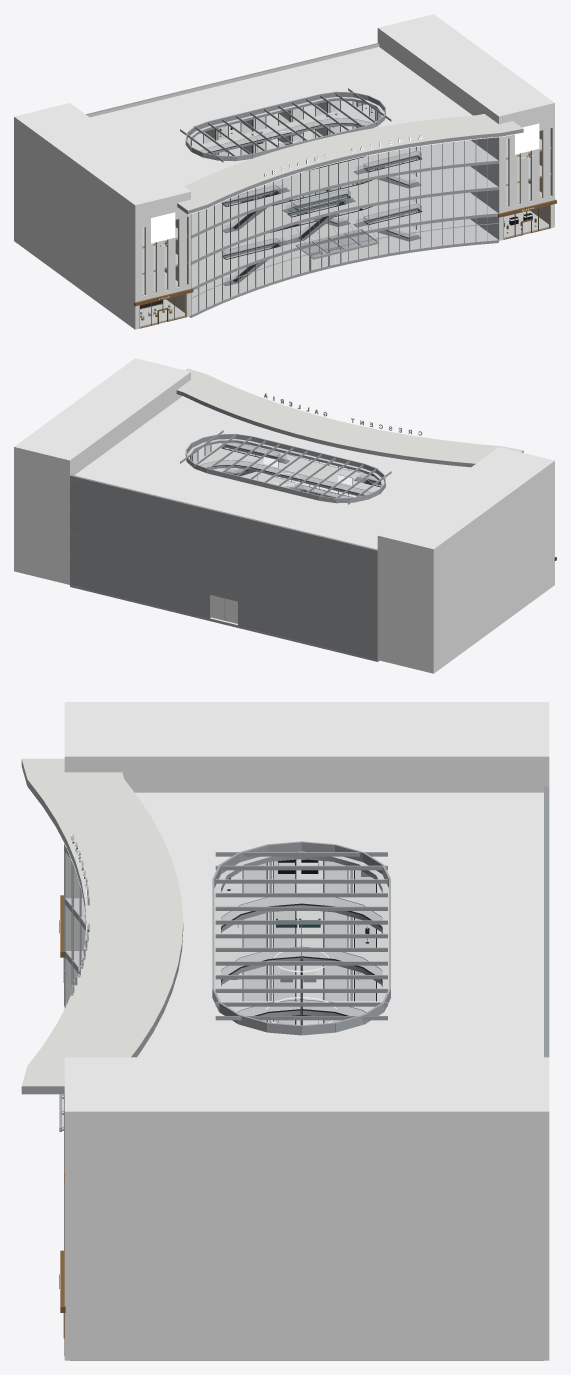
Rendered from crescent_galleria_lod1.glb.
The picture shows the model from 3 angles, top to bottom: view 1: azimuth 30°, elevation 25°; view 2: azimuth 150°, elevation 25°; view 3: azimuth 270°, elevation 25°; orthographic projection. The views are drawn at different scales.
Visible parts, largest first — view 1: P15_LOD1_BUILDING_EXTERIOR_Bookends, P15_LOD1_BUILDING_INTERIOR_Slabs, P15_LOD1_GLASS_SYSTEM_CrescentGlass, P15_LOD1_BUILDING_EXTERIOR_Roof, P15_LOD1_FACADE_DETAILS_Crescent, P15_LOD1_GLASS_SYSTEM_CrescentFrame, P15_LOD1_GLASS_SYSTEM_SkylightFrame, P15_LOD1_BUILDING_INTERIOR_BookendFloors, P15_LOD1_SIGNAGE_Brand, P15_LOD1_GLASS_SYSTEM_BookShop1Glass, P15_LOD1_GLASS_SYSTEM_BookShop-1Glass, P15_LOD1_BUILDING_INTERIOR_ShopShells (+5 smaller); view 2: P15_LOD1_BUILDING_EXTERIOR_Bookends, P15_LOD1_BUILDING_EXTERIOR_Roof, P15_LOD1_FACADE_DETAILS_Crescent, P15_LOD1_BUILDING_INTERIOR_Slabs, P15_LOD1_GLASS_SYSTEM_SkylightFrame, P15_LOD1_BUILDING_INTERIOR_ShopShells; view 3: P15_LOD1_BUILDING_EXTERIOR_Bookends, P15_LOD1_BUILDING_EXTERIOR_Roof, P15_LOD1_FACADE_DETAILS_Crescent, P15_LOD1_BUILDING_INTERIOR_Slabs, P15_LOD1_GLASS_SYSTEM_SkylightFrame, P15_LOD1_GLASS_SYSTEM_CrescentGlass, P15_LOD1_GLASS_SYSTEM_CrescentFrame, P15_LOD1_DISPLAY_OBJECTS_ShopDisplays, P15_LOD1_GLASS_SYSTEM_Shopfronts.
Boxes of the visible parts, x1=… form: P15_LOD1_BUILDING_EXTERIOR_Bookends: x1=14, y1=14, x2=556, y2=329; P15_LOD1_BUILDING_INTERIOR_Slabs: x1=189, y1=100, x2=498, y2=317; P15_LOD1_GLASS_SYSTEM_CrescentGlass: x1=192, y1=138, x2=498, y2=313; P15_LOD1_BUILDING_EXTERIOR_Roof: x1=90, y1=47, x2=472, y2=186; P15_LOD1_FACADE_DETAILS_Crescent: x1=177, y1=114, x2=523, y2=259; P15_LOD1_GLASS_SYSTEM_CrescentFrame: x1=191, y1=137, x2=499, y2=315; P15_LOD1_GLASS_SYSTEM_SkylightFrame: x1=180, y1=88, x2=391, y2=162; P15_LOD1_BUILDING_INTERIOR_BookendFloors: x1=140, y1=139, x2=551, y2=327; P15_LOD1_SIGNAGE_Brand: x1=151, y1=123, x2=539, y2=299; P15_LOD1_GLASS_SYSTEM_BookShop1Glass: x1=504, y1=206, x2=549, y2=238; P15_LOD1_GLASS_SYSTEM_BookShop-1Glass: x1=140, y1=295, x2=185, y2=327; P15_LOD1_BUILDING_INTERIOR_ShopShells: x1=205, y1=102, x2=383, y2=202; P15_LOD1_BUILDING_EXTERIOR_Bookends: x1=14, y1=358, x2=556, y2=673; P15_LOD1_BUILDING_EXTERIOR_Roof: x1=70, y1=396, x2=470, y2=549; P15_LOD1_FACADE_DETAILS_Crescent: x1=176, y1=368, x2=523, y2=467; P15_LOD1_BUILDING_INTERIOR_Slabs: x1=70, y1=442, x2=381, y2=661; P15_LOD1_GLASS_SYSTEM_SkylightFrame: x1=180, y1=430, x2=391, y2=504; P15_LOD1_BUILDING_INTERIOR_ShopShells: x1=191, y1=455, x2=237, y2=623; P15_LOD1_BUILDING_EXTERIOR_Bookends: x1=60, y1=702, x2=549, y2=1360; P15_LOD1_BUILDING_EXTERIOR_Roof: x1=135, y1=792, x2=543, y2=1057; P15_LOD1_FACADE_DETAILS_Crescent: x1=21, y1=758, x2=183, y2=1131; P15_LOD1_BUILDING_INTERIOR_Slabs: x1=64, y1=859, x2=382, y2=1024; P15_LOD1_GLASS_SYSTEM_SkylightFrame: x1=212, y1=841, x2=390, y2=1035; P15_LOD1_GLASS_SYSTEM_CrescentGlass: x1=65, y1=853, x2=84, y2=1004; P15_LOD1_GLASS_SYSTEM_CrescentFrame: x1=64, y1=844, x2=85, y2=1251; P15_LOD1_DISPLAY_OBJECTS_ShopDisplays: x1=227, y1=859, x2=370, y2=1024; P15_LOD1_GLASS_SYSTEM_Shopfronts: x1=242, y1=859, x2=376, y2=1024.
Size of the model in its own units: 90.4 by 25.9 by 49.01.
